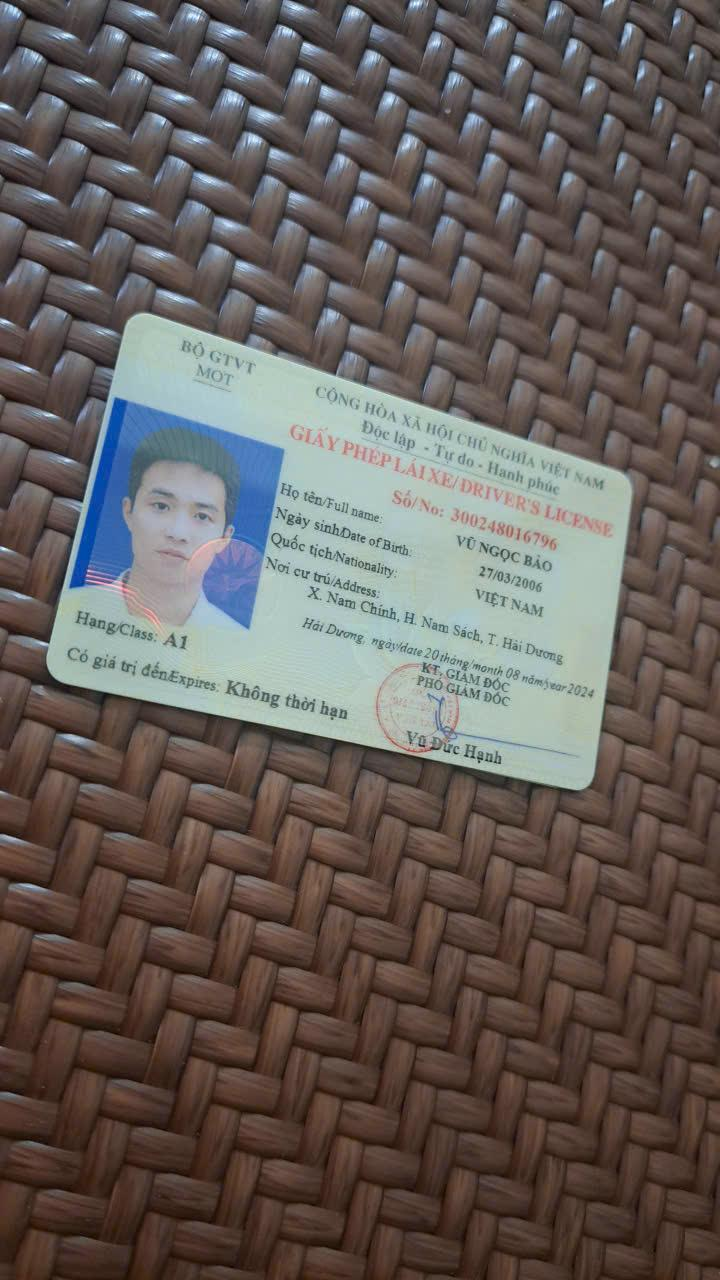gplx: (36, 299, 640, 802)
